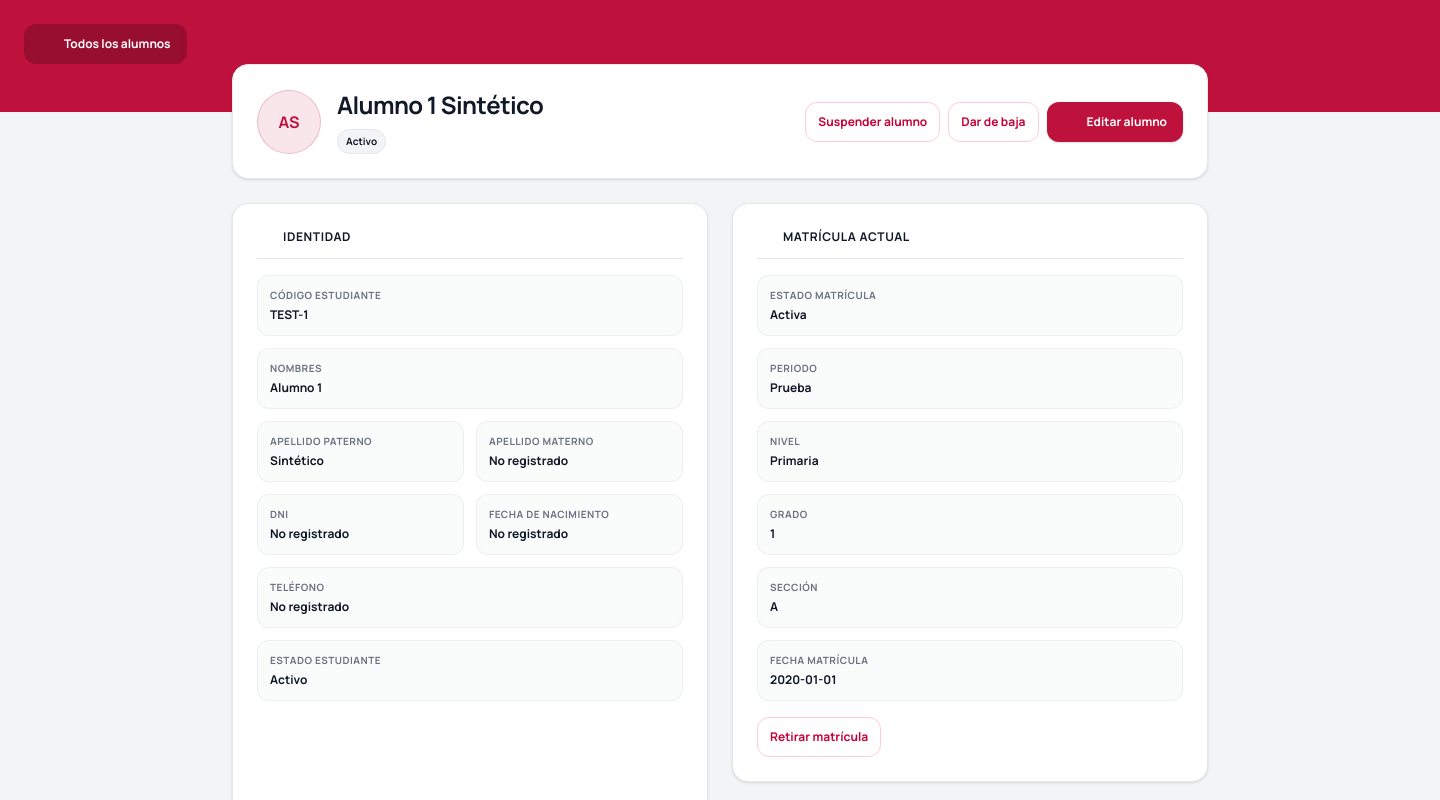
Test: ambiguous PATCH with inactive refreshed enrollment reports verification rather than own success
Click the button "Retirar matrícula".
click(819, 737)  # box [757,717,881,757]
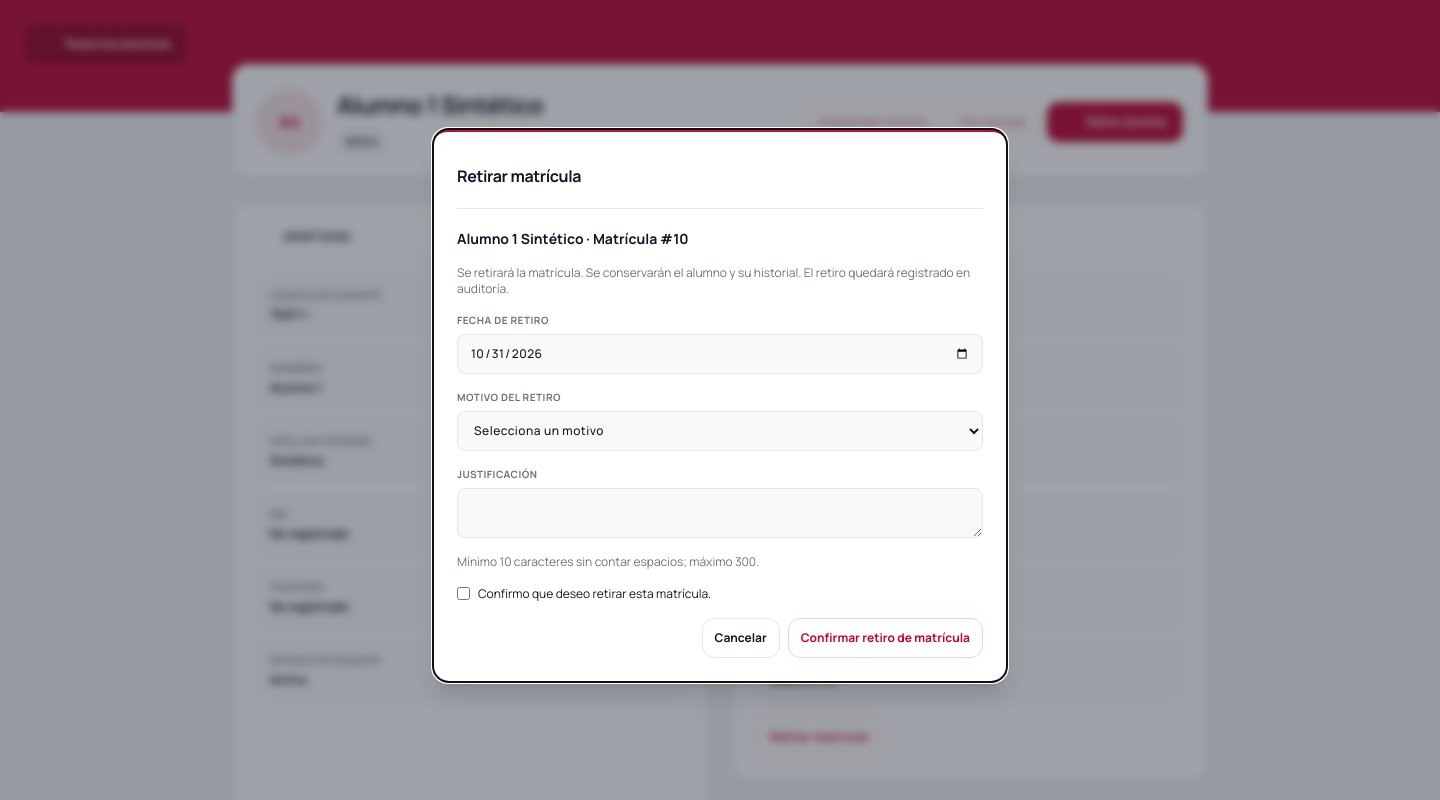
Click the dropdown labelled "Motivo del retiro".
click(720, 430)  # box [457,410,983,450]
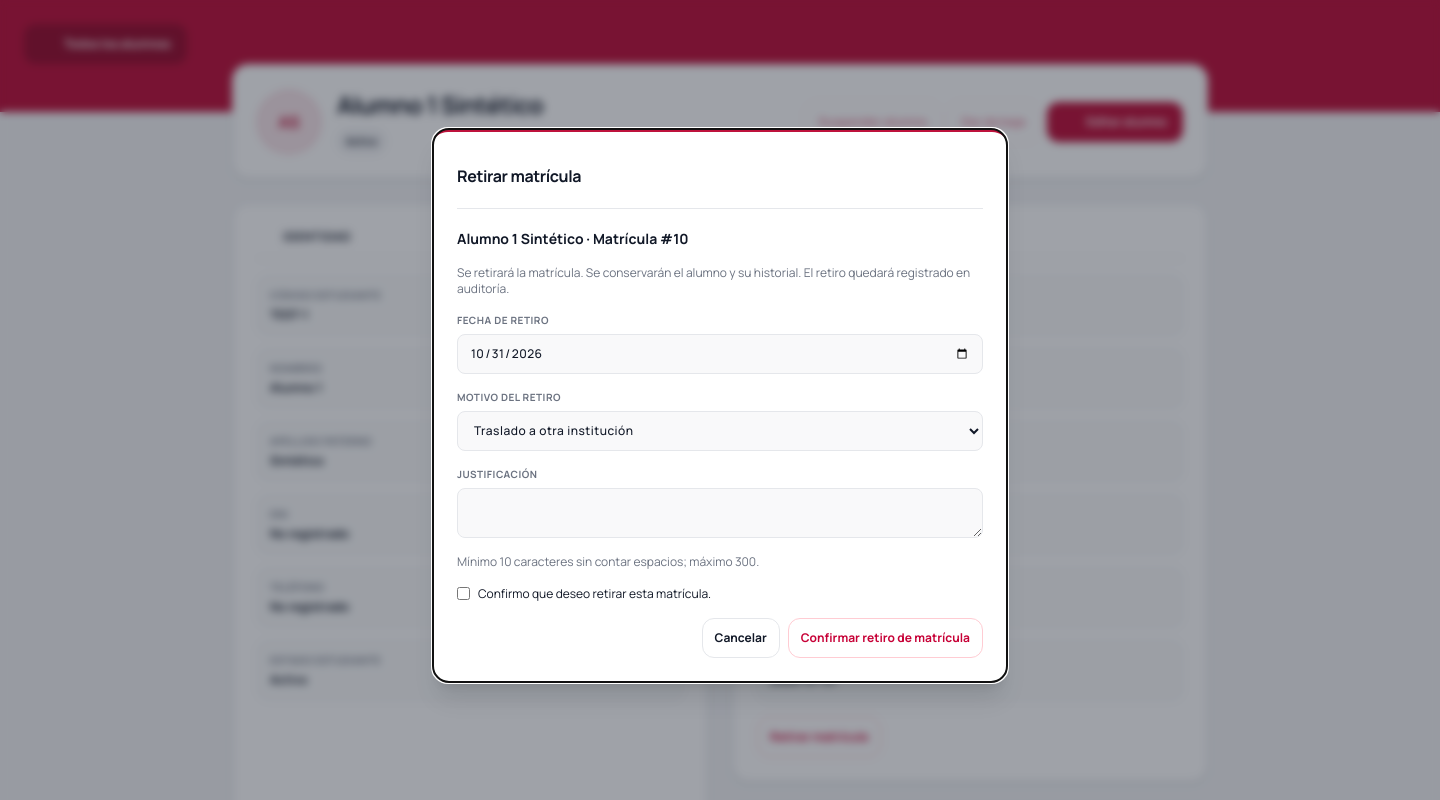
Click the text box labelled "Justificación".
click(720, 512)  # box [457,488,983,538]
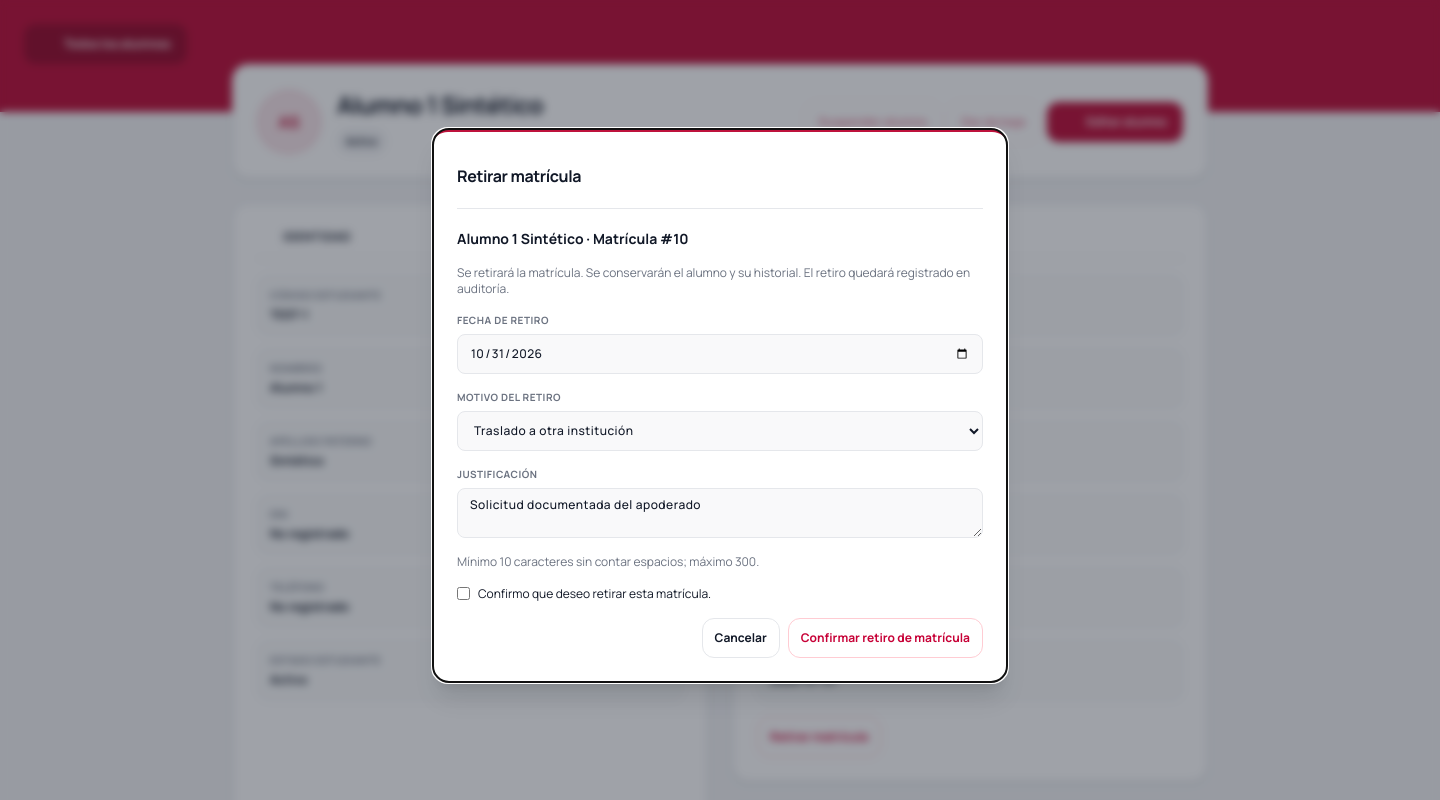
Click the checkbox labelled "Confirmo que deseo retirar esta matrícula.".
click(464, 594)  # box [457,587,470,600]
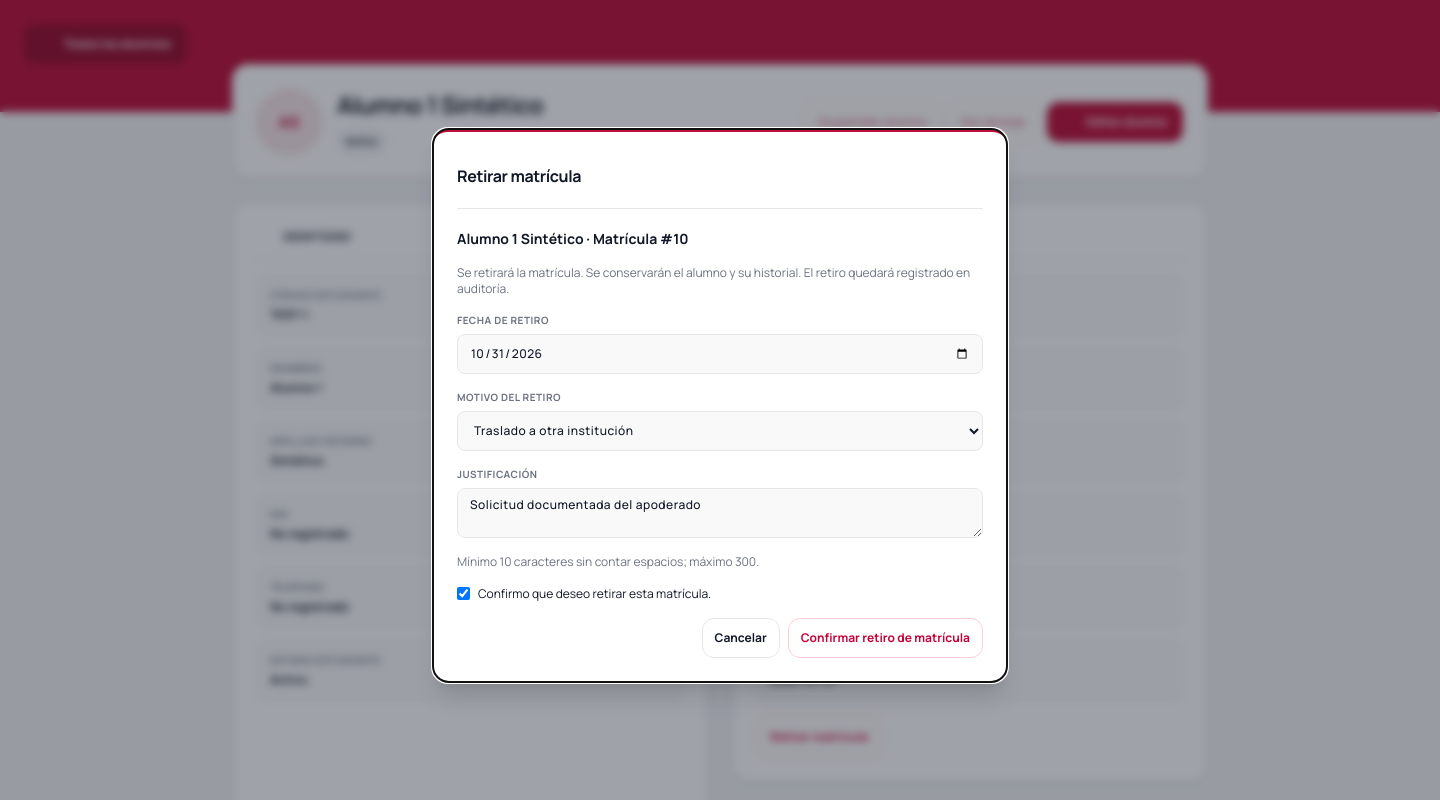
Submit the form, box [457,228,983,658]
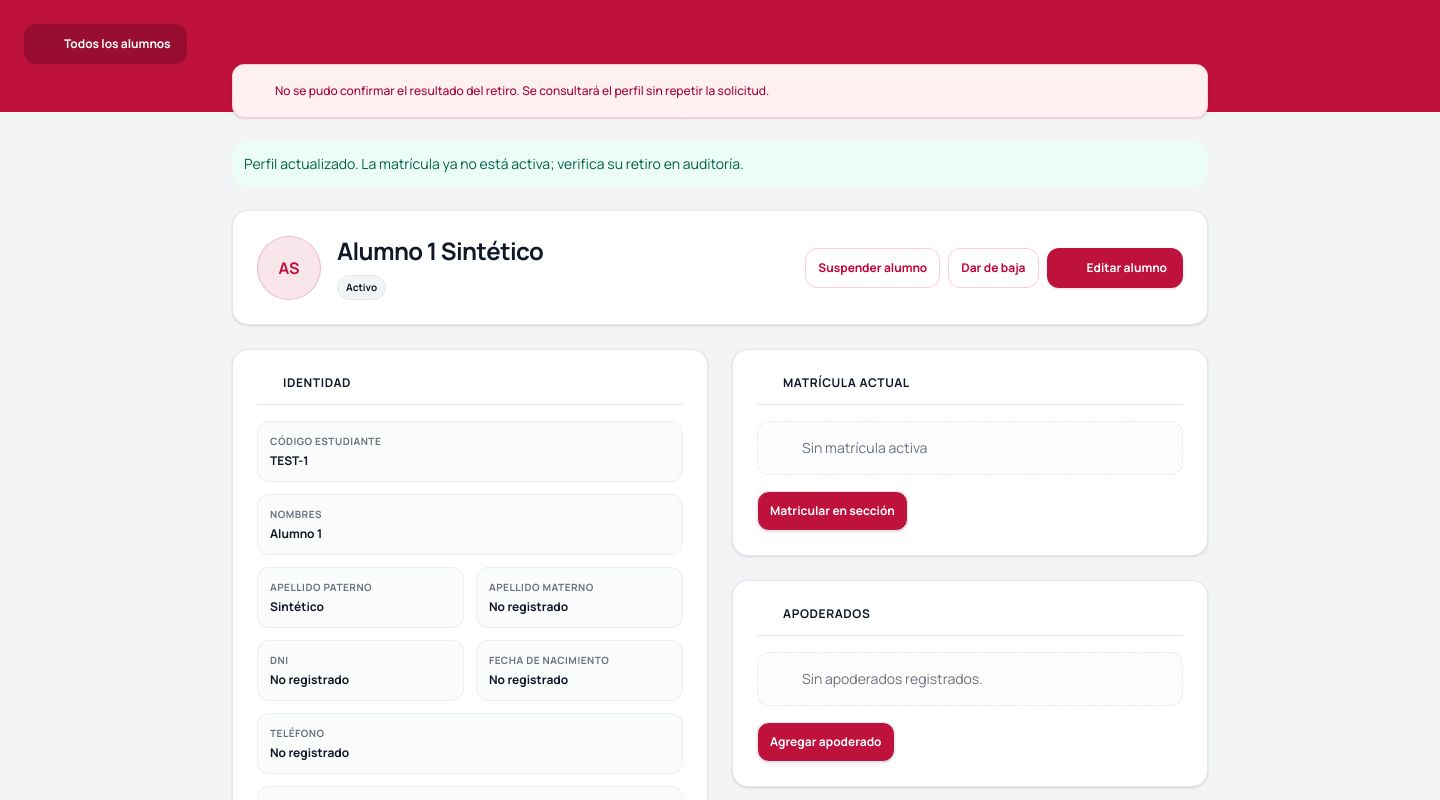
Expected: the text "verifica su retiro en auditoría" is shown, [244,154,744,173]
